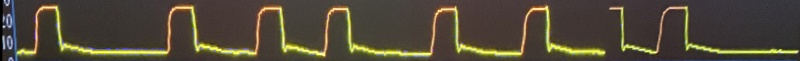normal_pressure: (24, 0, 609, 61), (632, 0, 798, 61)
